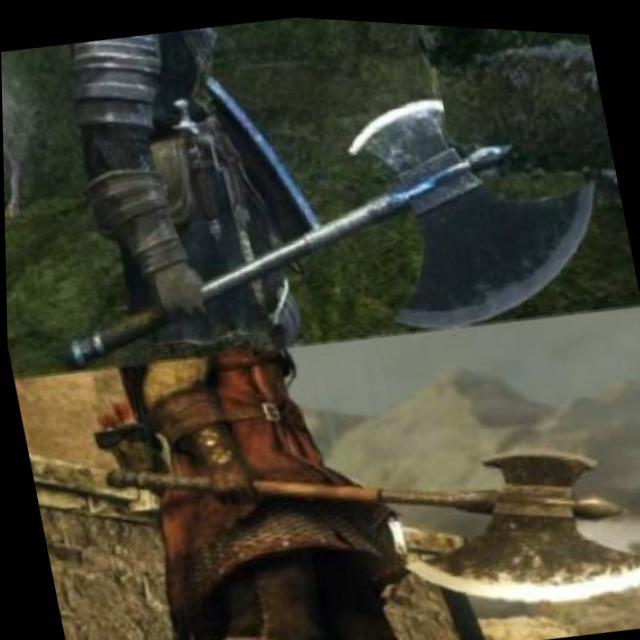weapon: (15, 42, 630, 406), (97, 355, 640, 640)
